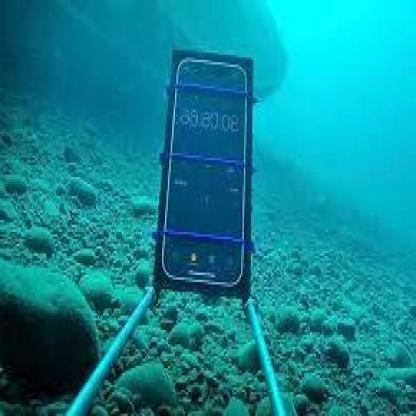cellphone: (164, 57, 247, 287)
